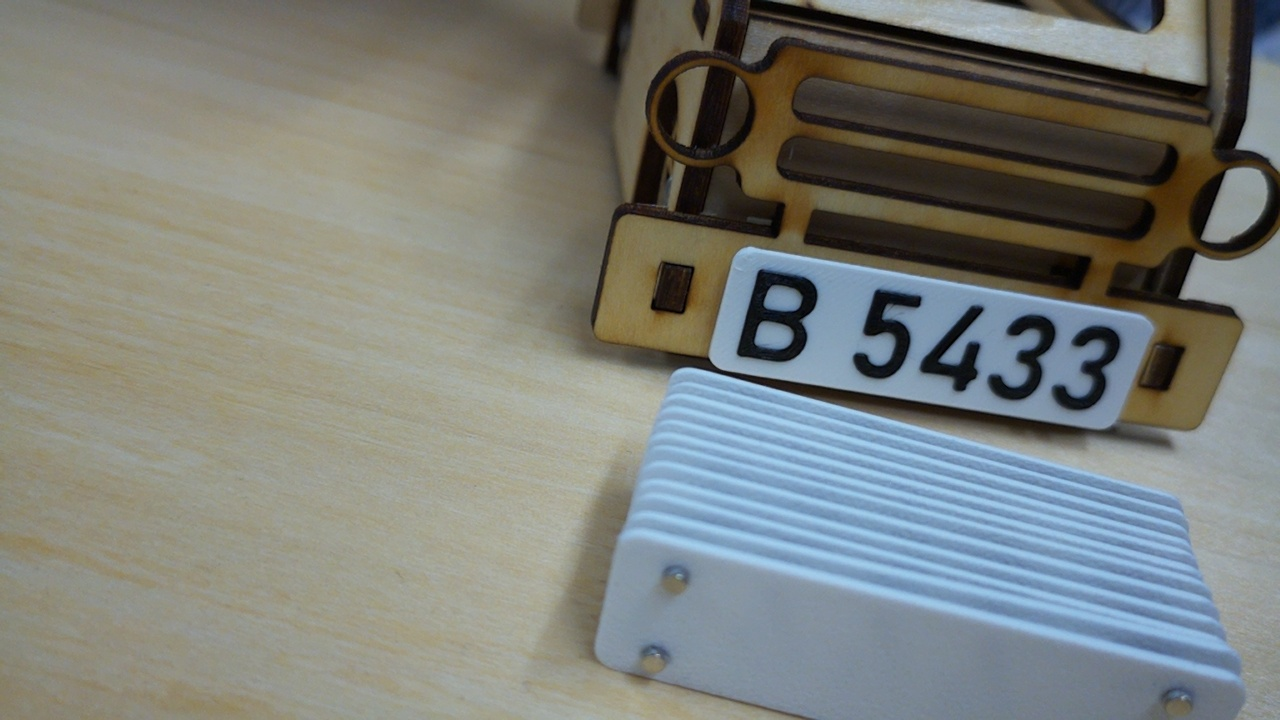license_plate: (705, 244, 1159, 434)
